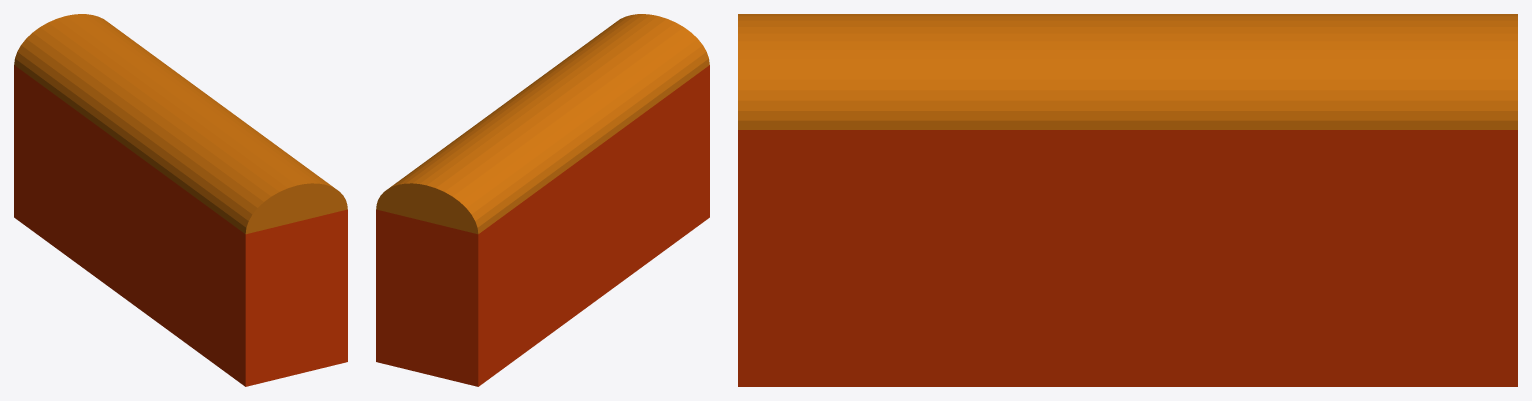
File: Wall 1.fbx
3 views of the same model, side by side, from view 1: azimuth 30°, elevation 25°; view 2: azimuth 150°, elevation 25°; view 3: azimuth 270°, elevation 25° (orthographic). The views are drawn at different scales.
Parts seen in each view (by area): view 1: Wall; view 2: Wall; view 3: Wall.
Part boxes in pixels (x1=…): Wall: x1=14, y1=14, x2=347, y2=386; Wall: x1=376, y1=14, x2=709, y2=386; Wall: x1=738, y1=14, x2=1517, y2=386.
Bounding box in the file's own units: 2 × 3.53 × 7.84.
